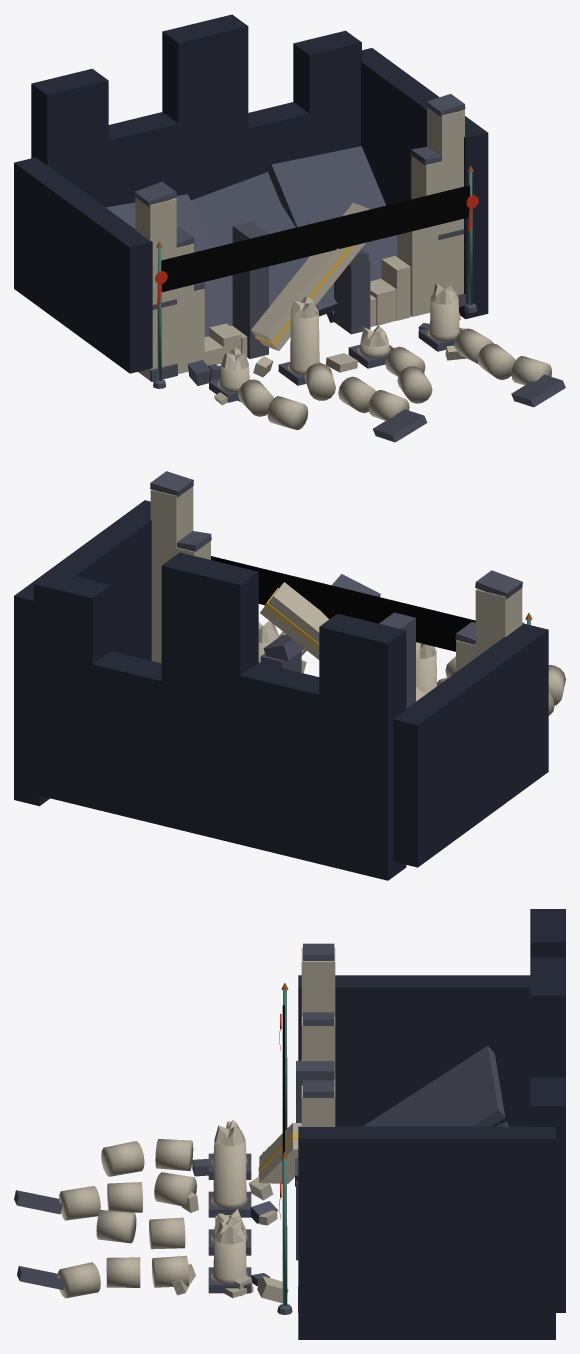
File: oath_hall_ruin.glb
3 views of the same model, one above another, from view 1: azimuth 30°, elevation 25°; view 2: azimuth 150°, elevation 25°; view 3: azimuth 270°, elevation 25° (orthographic). The views are drawn at different scales.
Parts seen in each view (by area): view 1: OathHallRuin; view 2: OathHallRuin; view 3: OathHallRuin.
Part boxes in pixels (x1,y1,x2,y2): OathHallRuin: (14, 14, 565, 442); OathHallRuin: (14, 471, 565, 880); OathHallRuin: (14, 909, 565, 1339).
Size of the model in its own units: 20.5 by 13.35 by 24.65.
